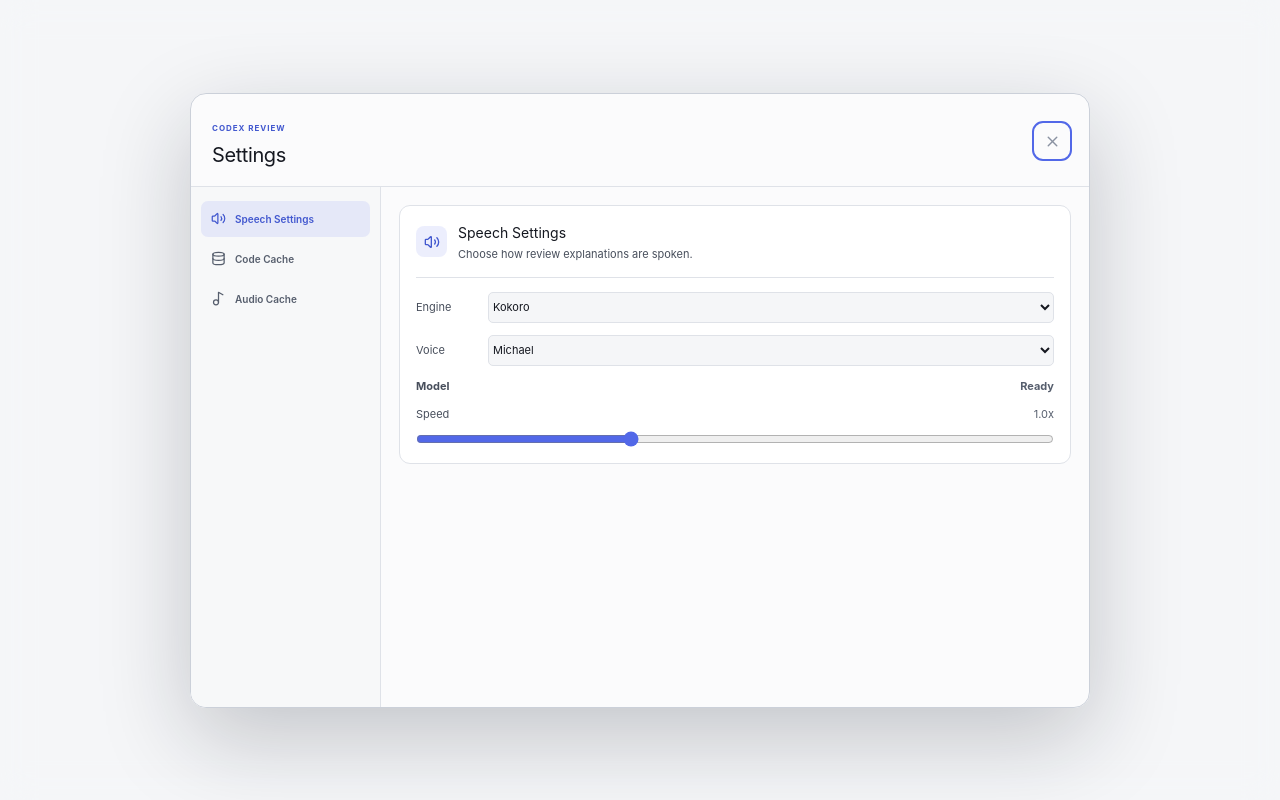
speech controls › navigates Speech, Code Cache, and Audio Cache from the settings sidebar
The image size is (1280, 800).
Expected: the navigation bar named "Settings sections" is shown, [191,186,381,706]
Expected: the heading "Speech Settings" is shown, [458,224,566,240]
Click the button "Code Cache": {"x": 286, "y": 258} [201,240,370,276]
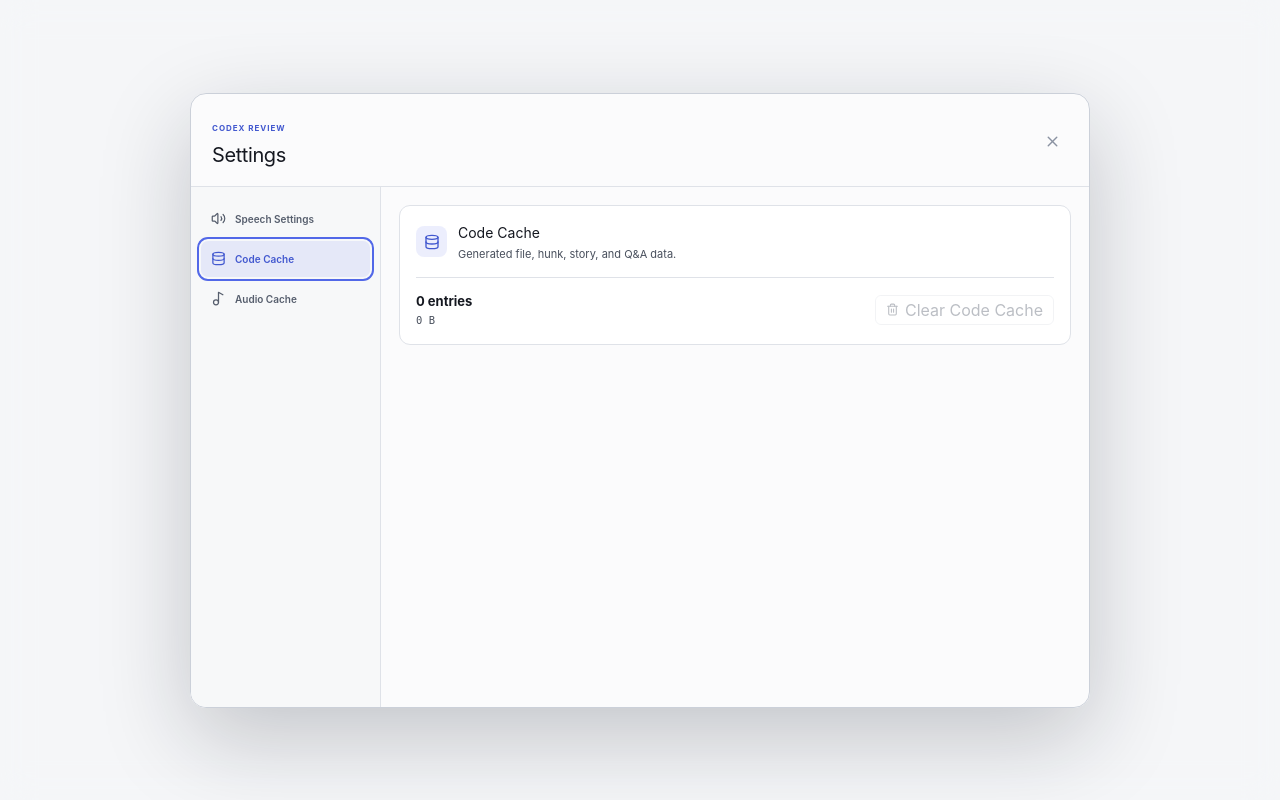
Expected: the heading "Code Cache" is shown, [458,224,540,240]
Click the button "Audio Cache": {"x": 286, "y": 298} [201,280,370,316]
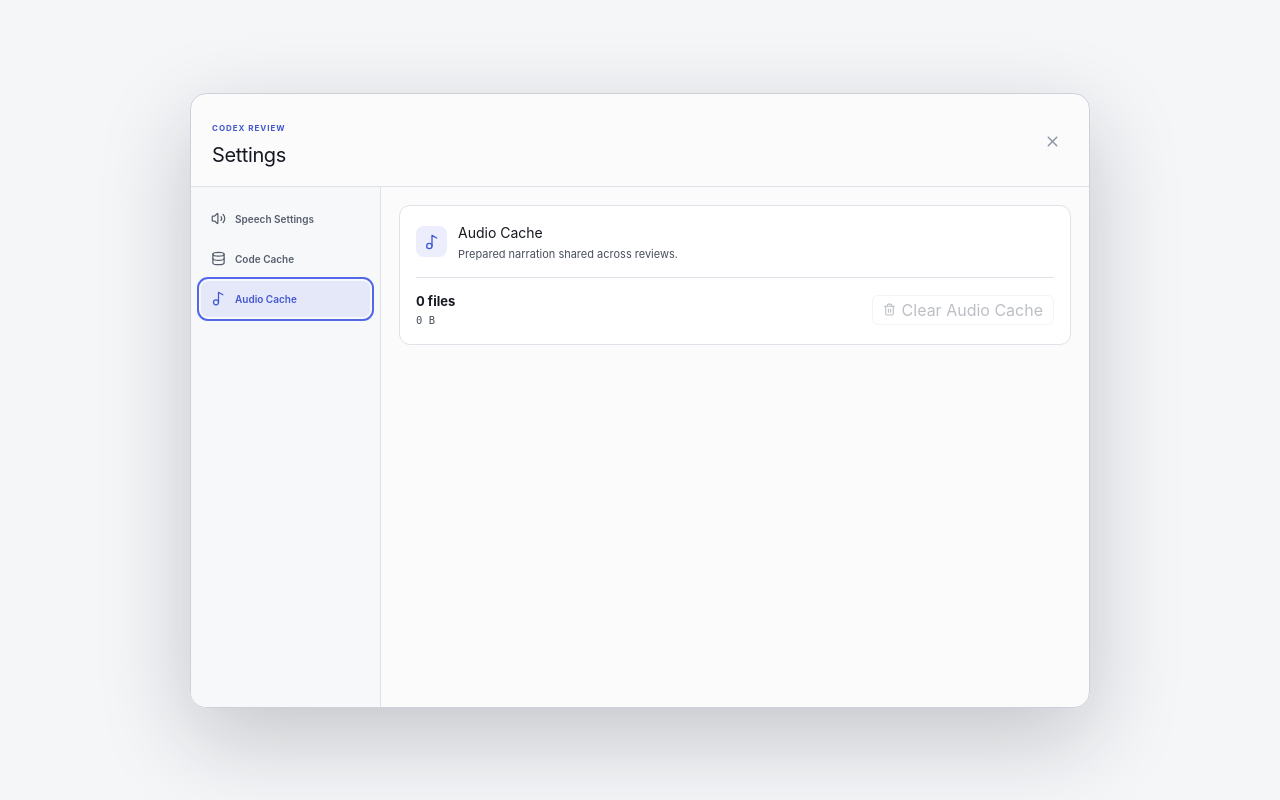
Expected: the heading "Audio Cache" is shown, [458,224,543,240]
